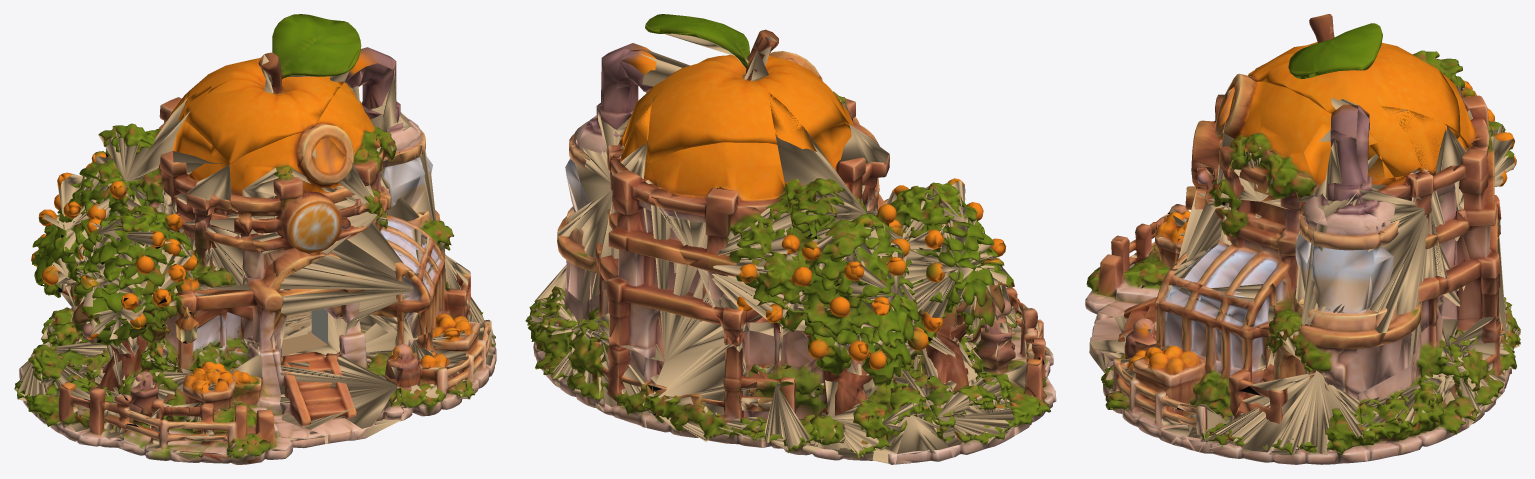
File: HOB_BLD_OrangeWorkshop_Fractured.fbx
3 renders of one model, left to right at view 1: azimuth 30°, elevation 25°; view 2: azimuth 150°, elevation 25°; view 3: azimuth 270°, elevation 25°, orthographic. The views are drawn at different scales.
Visible parts, largest first — view 1: HOB_BLD_OrangeWorkshop_Frag_30, HOB_BLD_OrangeWorkshop_Frag_29, HOB_BLD_OrangeWorkshop_Frag_02, HOB_BLD_OrangeWorkshop_Frag_19, HOB_BLD_OrangeWorkshop_Frag_20, HOB_BLD_OrangeWorkshop_Frag_05, HOB_BLD_OrangeWorkshop_Frag_09, HOB_BLD_OrangeWorkshop_Frag_06, HOB_BLD_OrangeWorkshop_Frag_10, HOB_BLD_OrangeWorkshop_Frag_17, HOB_BLD_OrangeWorkshop_Frag_00, HOB_BLD_OrangeWorkshop_Frag_33 (+12 smaller); view 2: HOB_BLD_OrangeWorkshop_Frag_16, HOB_BLD_OrangeWorkshop_Frag_30, HOB_BLD_OrangeWorkshop_Frag_31, HOB_BLD_OrangeWorkshop_Frag_17, HOB_BLD_OrangeWorkshop_Frag_35, HOB_BLD_OrangeWorkshop_Frag_22, HOB_BLD_OrangeWorkshop_Frag_23, HOB_BLD_OrangeWorkshop_Frag_05, HOB_BLD_OrangeWorkshop_Frag_18, HOB_BLD_OrangeWorkshop_Frag_07, HOB_BLD_OrangeWorkshop_Frag_13, HOB_BLD_OrangeWorkshop_Frag_08 (+11 smaller); view 3: HOB_BLD_OrangeWorkshop_Frag_23, HOB_BLD_OrangeWorkshop_Frag_09, HOB_BLD_OrangeWorkshop_Frag_30, HOB_BLD_OrangeWorkshop_Frag_15, HOB_BLD_OrangeWorkshop_Frag_04, HOB_BLD_OrangeWorkshop_Frag_25, HOB_BLD_OrangeWorkshop_Frag_31, HOB_BLD_OrangeWorkshop_Frag_12, HOB_BLD_OrangeWorkshop_Frag_10, HOB_BLD_OrangeWorkshop_Frag_33, HOB_BLD_OrangeWorkshop_Frag_13, HOB_BLD_OrangeWorkshop_Frag_16 (+7 smaller).
Boxes of the visible parts, box(x1,y1,x2,y2) form: HOB_BLD_OrangeWorkshop_Frag_30: box(184, 14, 361, 163); HOB_BLD_OrangeWorkshop_Frag_29: box(229, 127, 381, 280); HOB_BLD_OrangeWorkshop_Frag_02: box(138, 254, 293, 374); HOB_BLD_OrangeWorkshop_Frag_19: box(270, 313, 403, 443); HOB_BLD_OrangeWorkshop_Frag_20: box(278, 222, 430, 322); HOB_BLD_OrangeWorkshop_Frag_05: box(87, 121, 231, 245); HOB_BLD_OrangeWorkshop_Frag_09: box(314, 45, 419, 198); HOB_BLD_OrangeWorkshop_Frag_06: box(82, 213, 192, 316); HOB_BLD_OrangeWorkshop_Frag_10: box(179, 370, 325, 464); HOB_BLD_OrangeWorkshop_Frag_17: box(40, 80, 229, 230); HOB_BLD_OrangeWorkshop_Frag_00: box(118, 361, 209, 461); HOB_BLD_OrangeWorkshop_Frag_33: box(399, 329, 496, 420); HOB_BLD_OrangeWorkshop_Frag_16: box(650, 142, 804, 341); HOB_BLD_OrangeWorkshop_Frag_30: box(612, 14, 849, 163); HOB_BLD_OrangeWorkshop_Frag_31: box(599, 89, 748, 361); HOB_BLD_OrangeWorkshop_Frag_17: box(768, 93, 906, 304); HOB_BLD_OrangeWorkshop_Frag_35: box(643, 339, 761, 447); HOB_BLD_OrangeWorkshop_Frag_22: box(900, 333, 1016, 457); HOB_BLD_OrangeWorkshop_Frag_23: box(557, 113, 623, 303); HOB_BLD_OrangeWorkshop_Frag_05: box(813, 122, 949, 255); HOB_BLD_OrangeWorkshop_Frag_18: box(754, 380, 896, 464); HOB_BLD_OrangeWorkshop_Frag_07: box(732, 288, 889, 382); HOB_BLD_OrangeWorkshop_Frag_13: box(551, 313, 664, 427); HOB_BLD_OrangeWorkshop_Frag_08: box(839, 294, 936, 431); HOB_BLD_OrangeWorkshop_Frag_23: box(1279, 167, 1448, 394); HOB_BLD_OrangeWorkshop_Frag_09: box(1219, 71, 1395, 221); HOB_BLD_OrangeWorkshop_Frag_30: box(1247, 14, 1460, 179); HOB_BLD_OrangeWorkshop_Frag_15: box(1149, 291, 1298, 451); HOB_BLD_OrangeWorkshop_Frag_04: box(1176, 197, 1317, 338); HOB_BLD_OrangeWorkshop_Frag_25: box(1199, 350, 1367, 464); HOB_BLD_OrangeWorkshop_Frag_31: box(1381, 106, 1500, 319); HOB_BLD_OrangeWorkshop_Frag_12: box(1358, 361, 1477, 461); HOB_BLD_OrangeWorkshop_Frag_10: box(1085, 212, 1178, 323); HOB_BLD_OrangeWorkshop_Frag_33: box(1101, 322, 1196, 451); HOB_BLD_OrangeWorkshop_Frag_13: box(1441, 316, 1516, 426); HOB_BLD_OrangeWorkshop_Frag_16: box(1442, 73, 1516, 221).
Bounding box in the file's own units: 2424 × 1677 × 1849.
